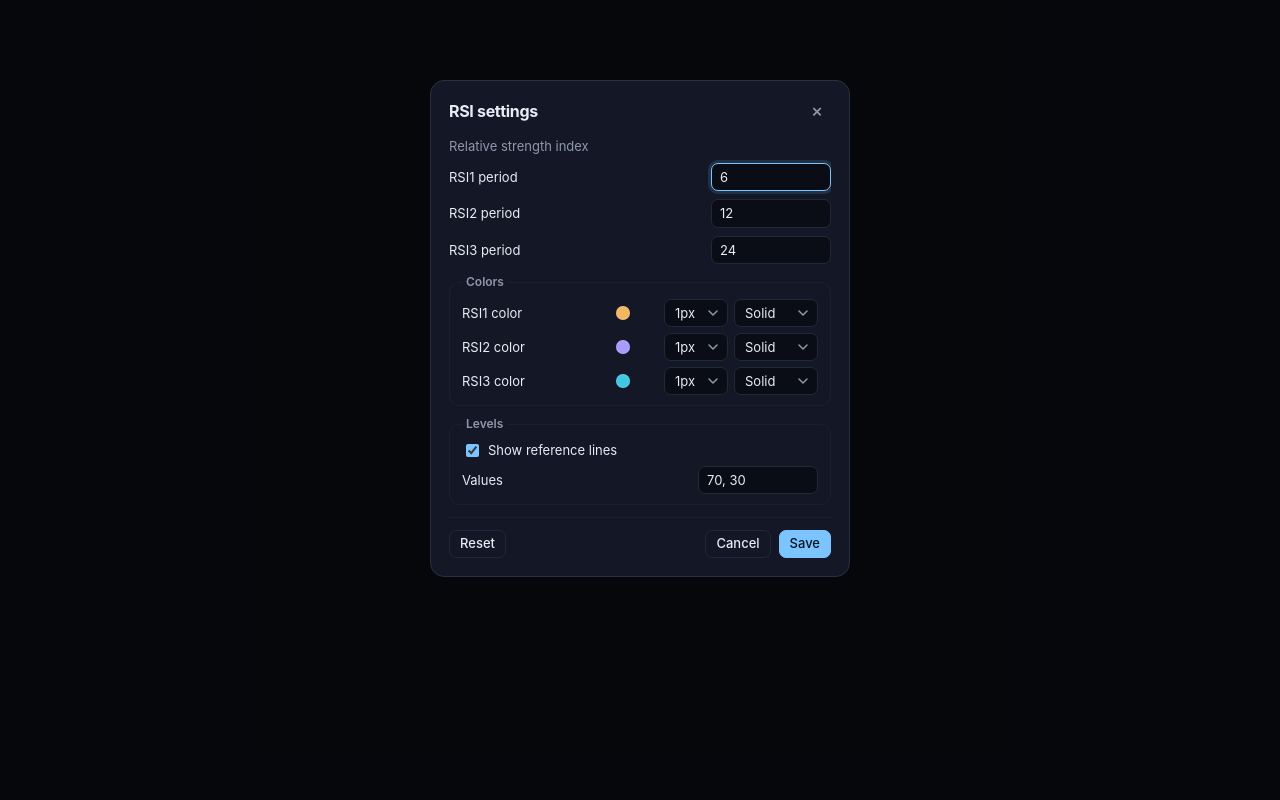
Test: IndicatorSettings › Escape in an open swatch popover closes the popover only, not the dialog
Click the button named "RSI1 color" at [623, 313], box [610,300,636,326]
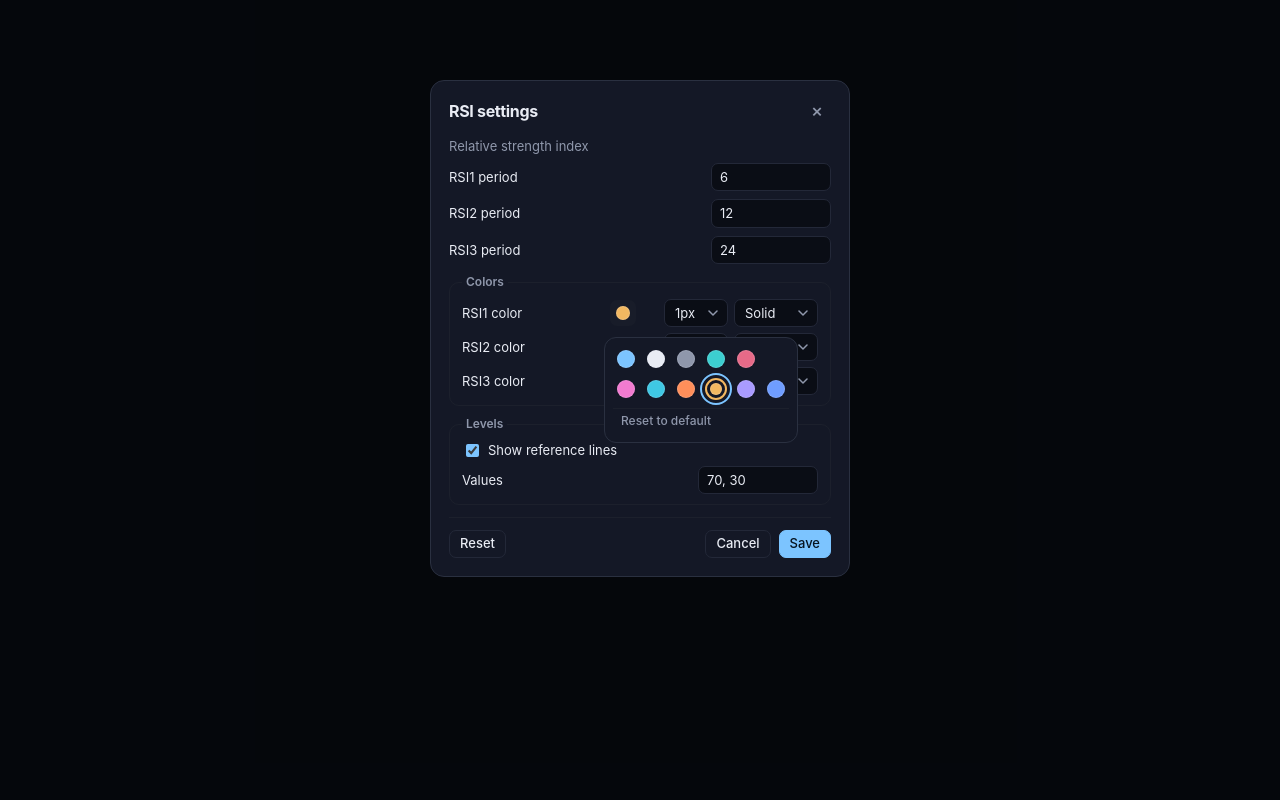
Check: the list named "RSI1 color" is shown, box [613,346,789,402]
Press Escape
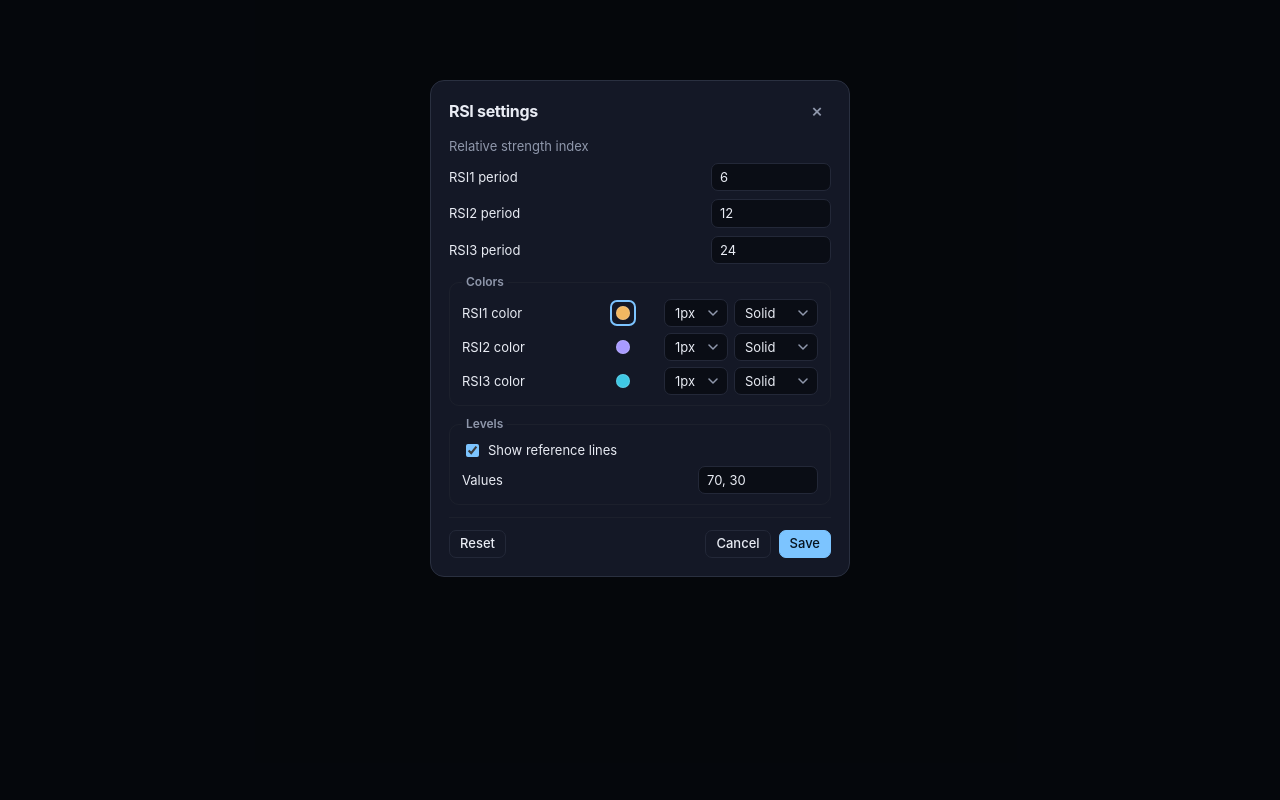
Check: the dialog is shown, box [430,80,850,577]
Check: the list is gone
